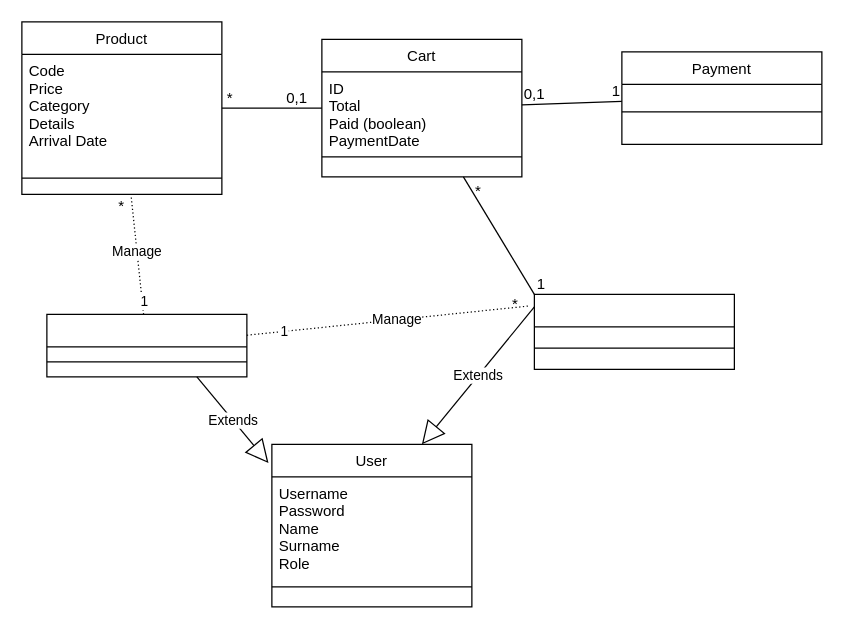
This 844x629 diagram has some shape labels left out. Each missing label, with the box of its shape:
Customer: (533, 293, 734, 369)
Manager: (46, 313, 247, 377)
